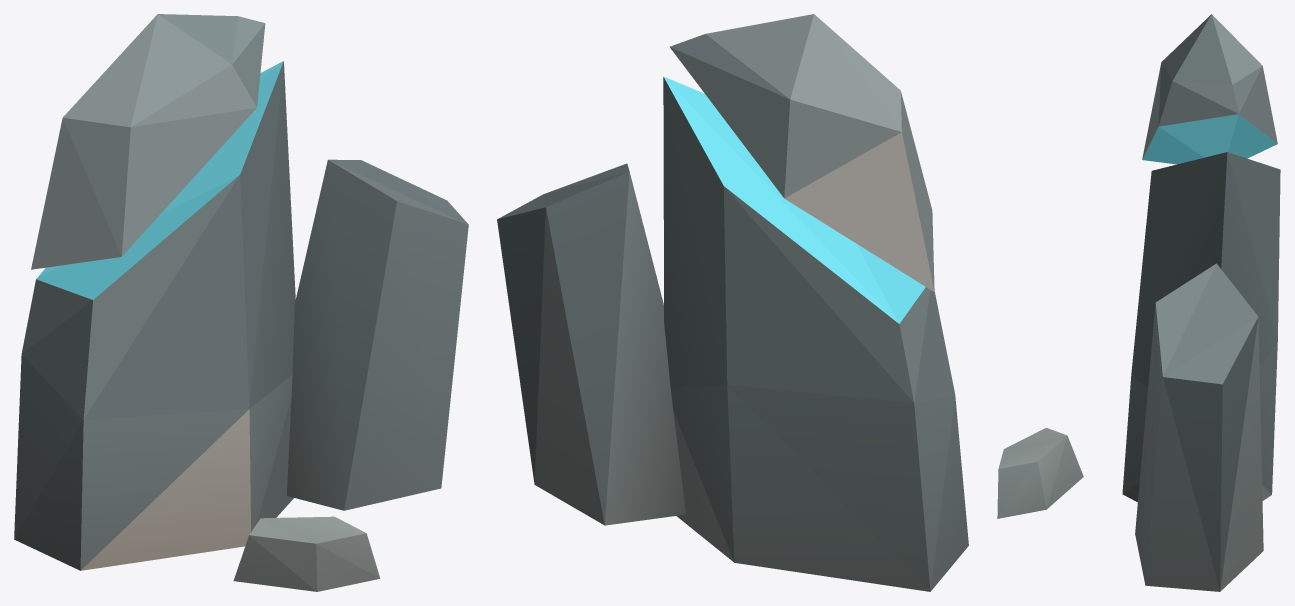
Rendered from rift_monolith.glb.
3 renders of one model, left to right at view 1: azimuth 30°, elevation 25°; view 2: azimuth 150°, elevation 25°; view 3: azimuth 270°, elevation 25°, orthographic. The views are drawn at different scales.
Visible parts, largest first — view 1: ca_rift_monolith; view 2: ca_rift_monolith; view 3: ca_rift_monolith.
Part boxes in pixels (left/top/right/bottom): ca_rift_monolith: left=14, top=14, right=468, bottom=591; ca_rift_monolith: left=497, top=14, right=968, bottom=591; ca_rift_monolith: left=997, top=14, right=1280, bottom=591.
Bounding box in the file's own units: 0.8671 × 0.9959 × 0.5531.
Materials: 1 (1 with a texture image).
